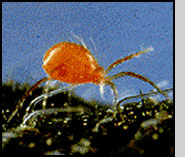Mites: (28, 33, 146, 118)
